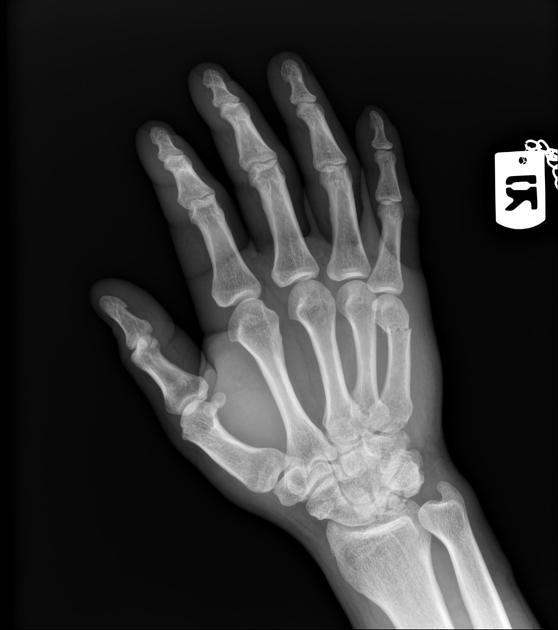fractured: (388, 321, 412, 338)
